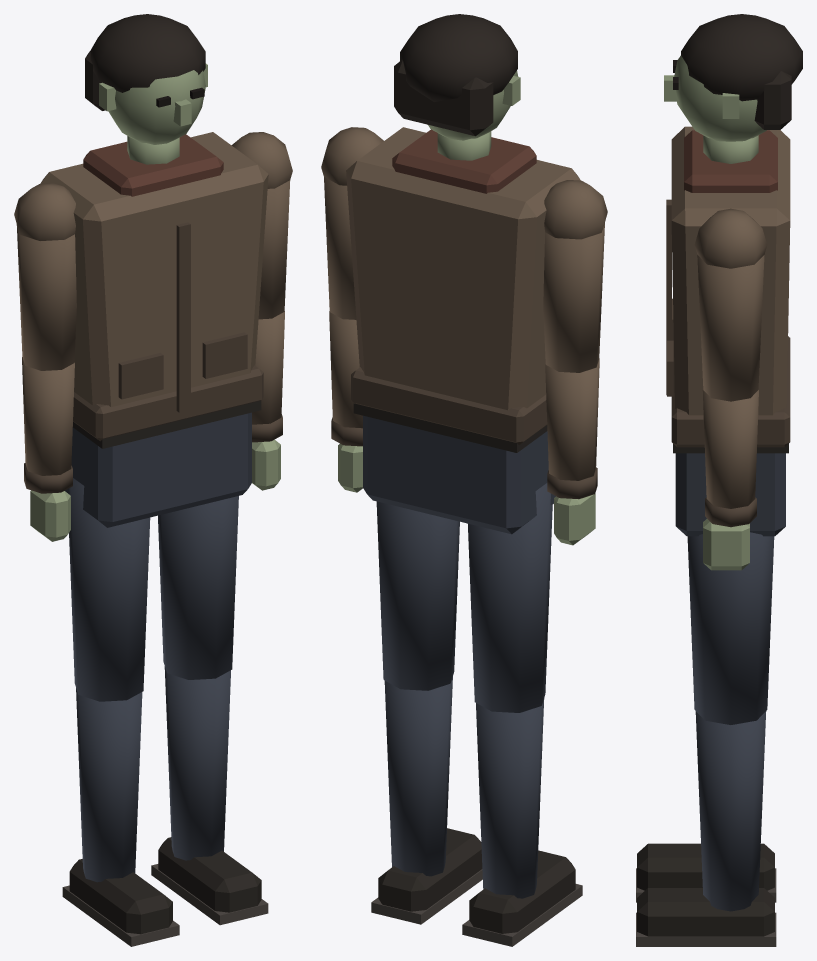
The model's file is zombie_a.glb.
The picture shows the model from 3 angles, left to right: view 1: azimuth 30°, elevation 25°; view 2: azimuth 150°, elevation 25°; view 3: azimuth 270°, elevation 25°; orthographic projection. The views are drawn at different scales.
Parts seen in each view (by area): view 1: Torso, ShinR, ShinL, Hips, LegR, Head, LegL, ArmR, ForearmR, ArmL, ForearmL; view 2: Torso, ShinR, Hips, ShinL, LegR, Head, LegL, ArmR, ForearmR, ArmL, ForearmL; view 3: Torso, ShinL, Head, LegL, ArmL, ForearmL, Hips, ShinR.
Part boxes in pixels (box(x1,y1,x2,y2)): Torso: box(40, 132, 268, 441); ShinR: box(62, 688, 179, 946); ShinL: box(151, 666, 268, 925); Hips: box(65, 400, 261, 527); LegR: box(69, 478, 150, 701); Head: box(85, 14, 207, 164); LegL: box(158, 496, 238, 679); ArmR: box(14, 183, 76, 370); ForearmR: box(22, 357, 74, 541); ArmL: box(231, 132, 292, 319); ForearmL: box(252, 311, 284, 490); Torso: box(346, 127, 580, 444); ShinR: box(462, 698, 582, 946); Hips: box(353, 403, 555, 534); ShinL: box(371, 676, 482, 924); LegR: box(468, 483, 552, 712); Head: box(394, 14, 520, 160); LegL: box(376, 501, 459, 690); ArmR: box(543, 180, 607, 372); ForearmR: box(545, 358, 599, 545); ArmL: box(321, 127, 383, 319); ForearmL: box(329, 311, 362, 492); Torso: box(666, 126, 790, 447); ShinL: box(636, 711, 776, 946); Head: box(664, 14, 802, 163); LegL: box(687, 532, 774, 724); ArmL: box(694, 208, 767, 401); ForearmL: box(702, 390, 758, 570); Hips: box(673, 443, 788, 536); ShinR: box(636, 843, 776, 902).
Bounding box in the file's own units: 0.582 × 1.78 × 0.3026.
